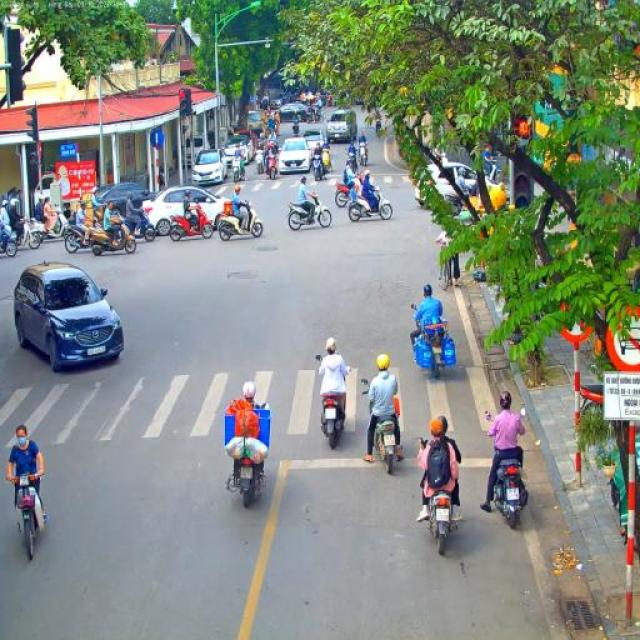car: (12, 261, 126, 374), (132, 183, 232, 237), (413, 161, 473, 209), (91, 182, 150, 220), (191, 150, 228, 186), (278, 138, 310, 174), (326, 108, 358, 143), (220, 144, 250, 172), (301, 129, 324, 165), (275, 102, 311, 122), (224, 134, 253, 157), (244, 110, 264, 138), (233, 128, 254, 150), (268, 91, 292, 110)
motorcycle: (410, 436, 460, 556), (484, 406, 530, 529), (226, 402, 270, 508), (360, 379, 402, 475), (411, 304, 457, 380), (5, 471, 43, 561), (315, 355, 351, 450), (88, 214, 137, 258), (216, 199, 264, 241), (168, 204, 214, 243), (348, 183, 393, 222), (286, 195, 332, 231), (118, 206, 157, 243), (60, 212, 92, 254), (35, 206, 69, 242), (11, 216, 44, 250), (332, 174, 364, 208), (461, 172, 490, 206), (0, 228, 18, 258), (263, 152, 279, 182), (487, 157, 504, 184), (230, 156, 246, 183), (252, 149, 266, 175), (309, 154, 323, 180), (320, 149, 332, 175), (344, 151, 358, 173), (358, 142, 368, 166), (267, 140, 278, 159), (292, 117, 300, 135), (375, 118, 383, 136), (267, 128, 273, 138)
